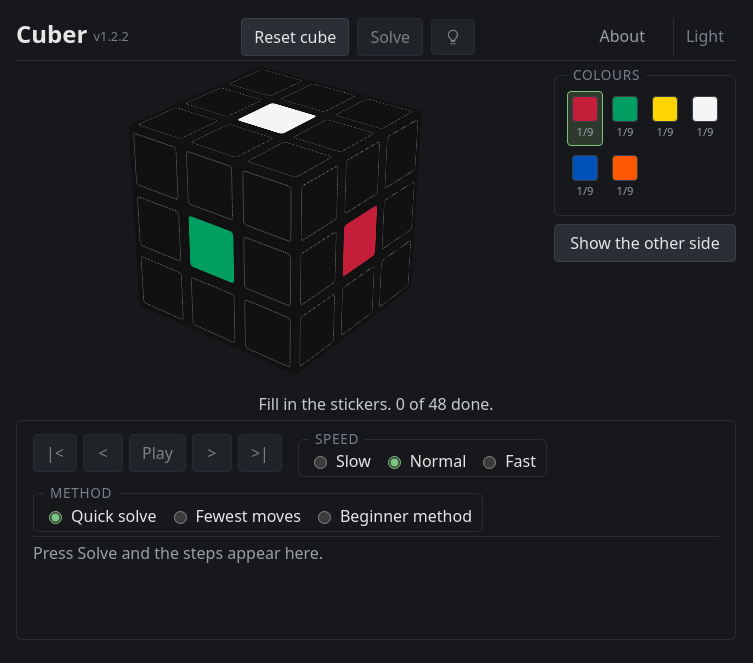
Scenario: About › shows the address as text in the desktop window, where nothing may open a link
Click the button "About".
click(622, 37)  # box [588,18,657,56]
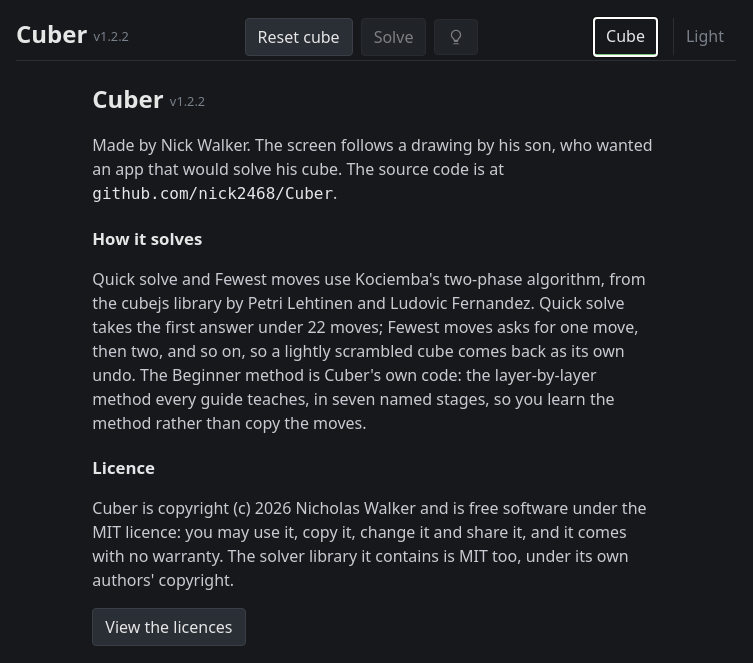
Expected: the text "github.com/nick2468/Cuber" is shown, [92,184,333,203]
